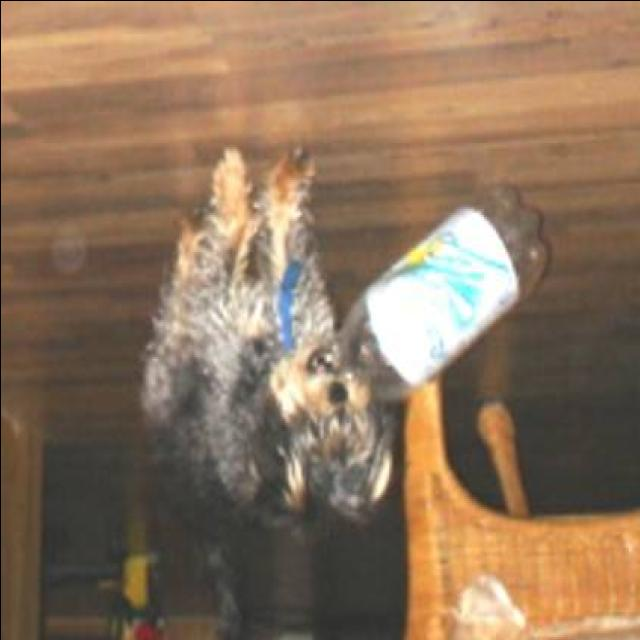dog: (98, 133, 404, 549)
